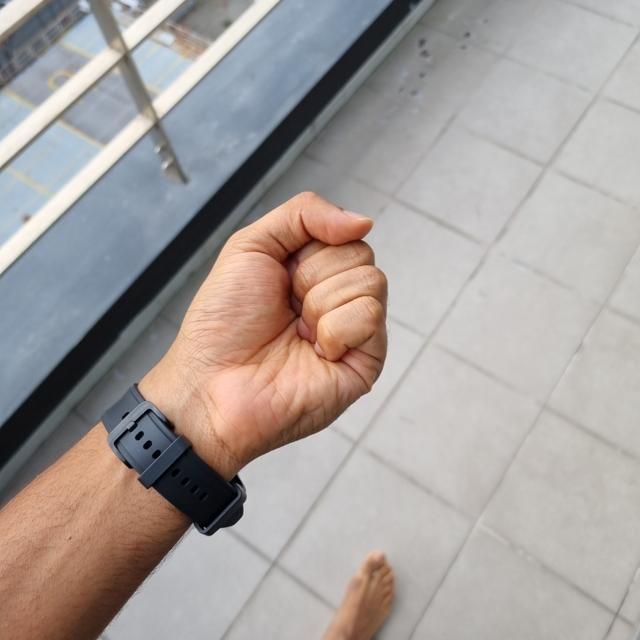Rock: (143, 193, 384, 474)
